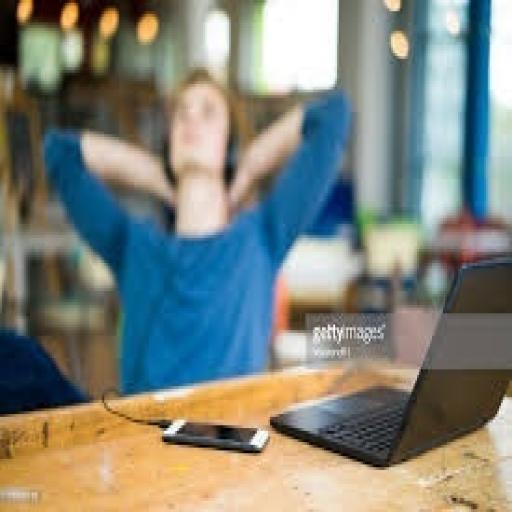listening_to_music: (39, 67, 356, 400)
